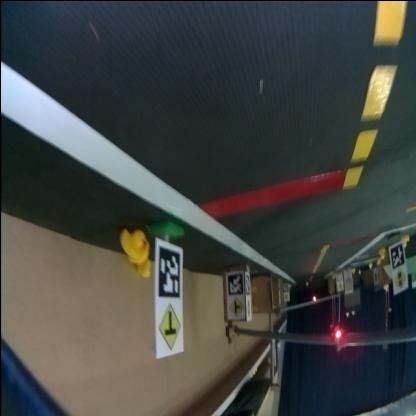Duckie: (120, 230, 146, 258), (379, 248, 385, 258), (402, 236, 408, 245), (383, 284, 389, 290)
Intersection sign: (158, 306, 180, 350), (230, 298, 244, 317)
QR code: (159, 246, 182, 298), (391, 242, 405, 266), (228, 272, 242, 294)
Signal sign: (394, 268, 406, 289)
Traffic light: (332, 325, 346, 351)
